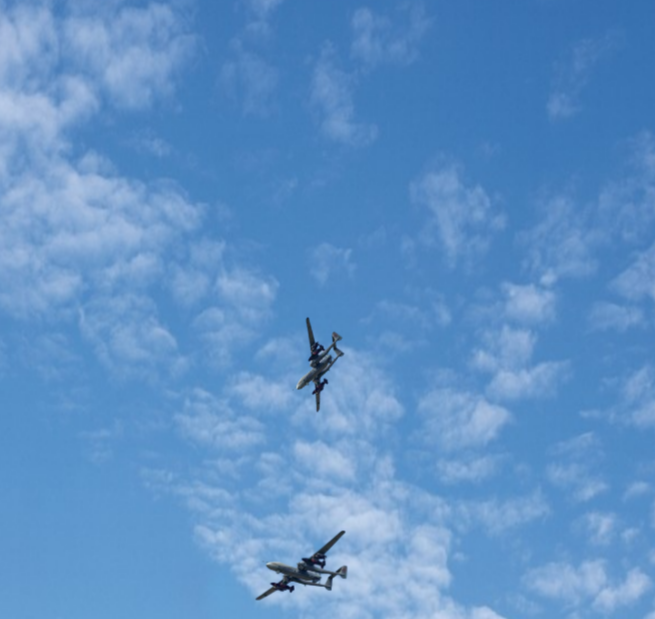military drone: (255, 530, 347, 600), (296, 316, 344, 411)
